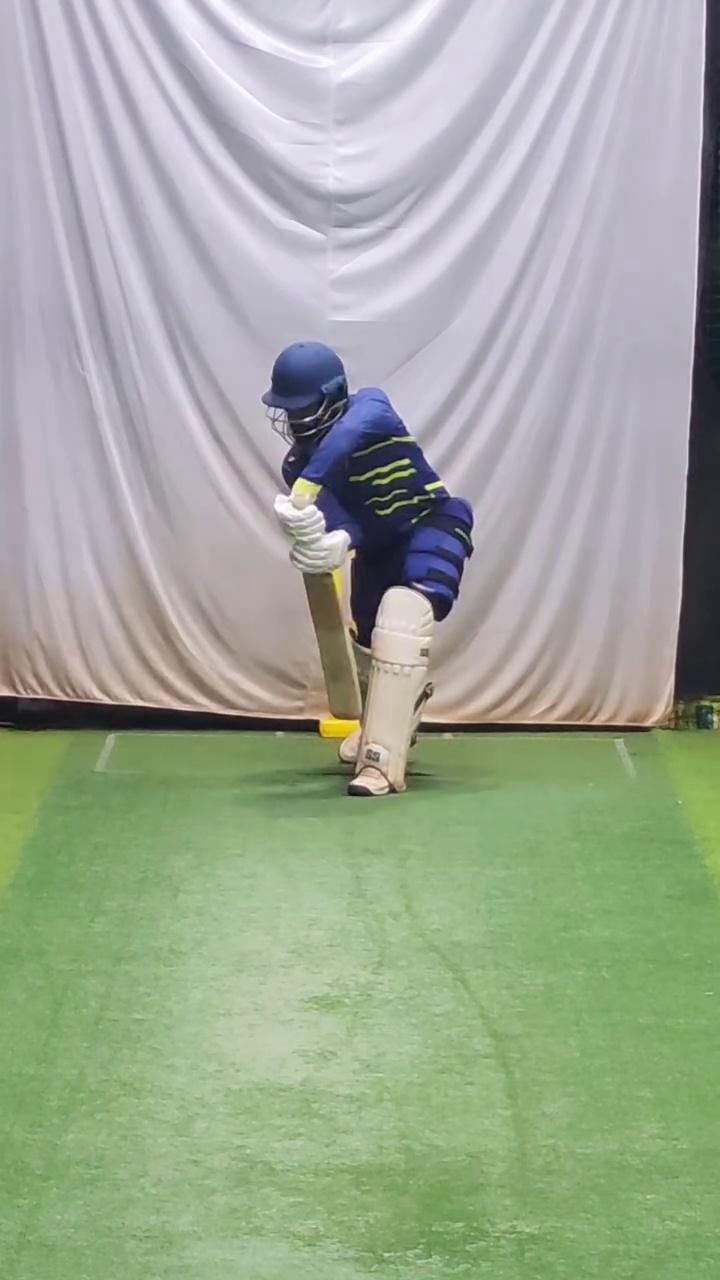bat: (298, 566, 366, 726)
